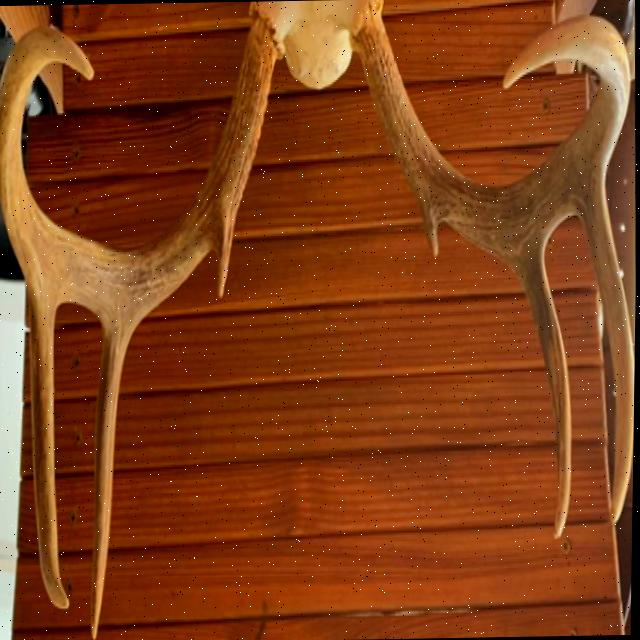L-F: (0, 1, 284, 329)
L-G1: (211, 218, 236, 301)
L-G2: (91, 320, 134, 640)
L-G3: (29, 293, 71, 611)
R-F: (349, 0, 632, 274)
R-G1: (420, 204, 441, 257)
R-G2: (519, 251, 573, 542)
R-G3: (578, 183, 636, 527)
